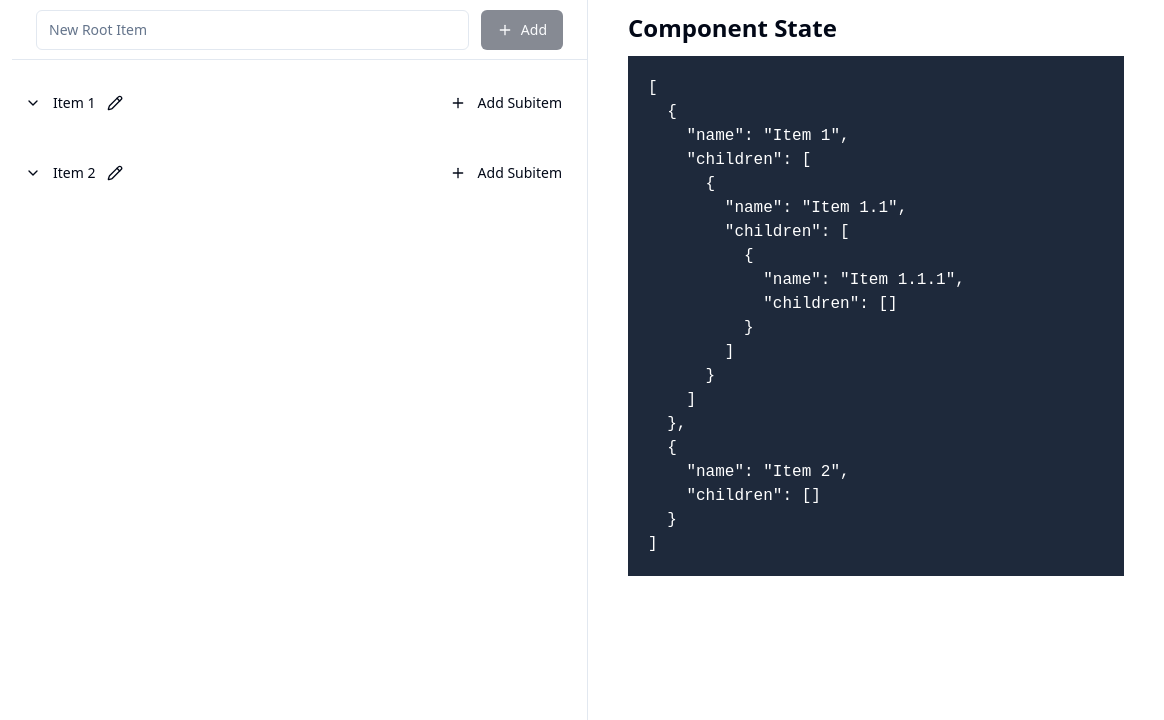
App › Display Input Field when edit Icon is clicked
Click the 3rd icon at (115, 103), box [107, 95, 123, 111]
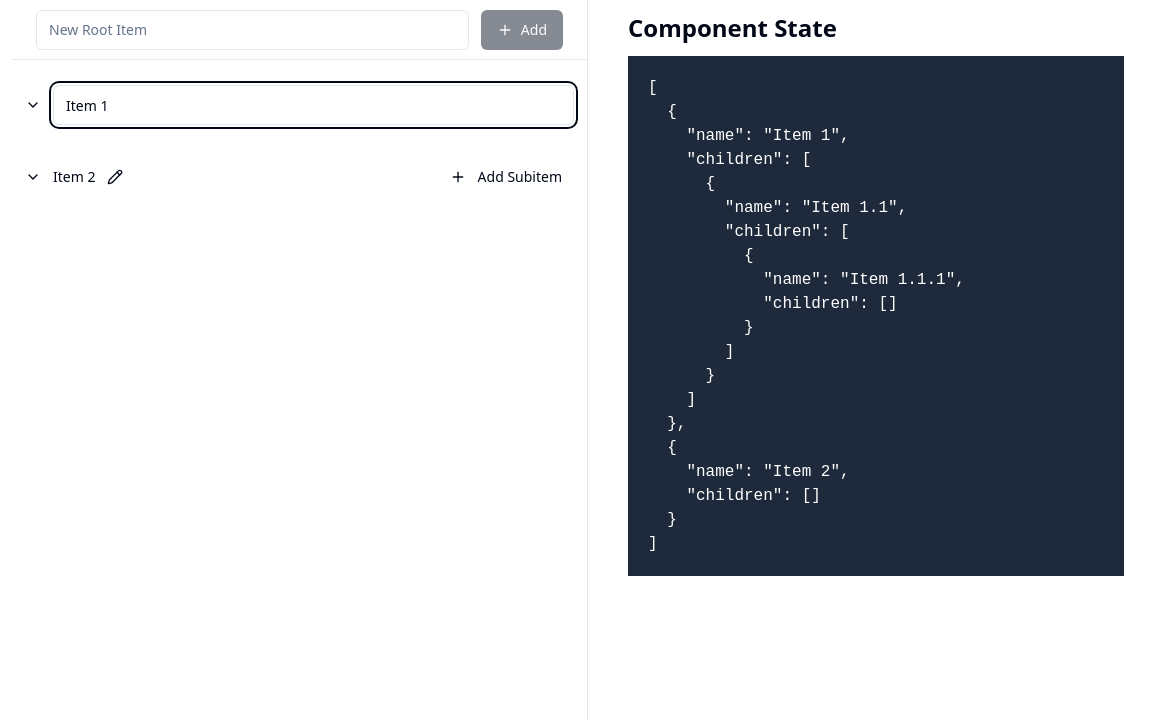
expect the field showing "Item 1" is shown: met, box [53, 85, 574, 125]
